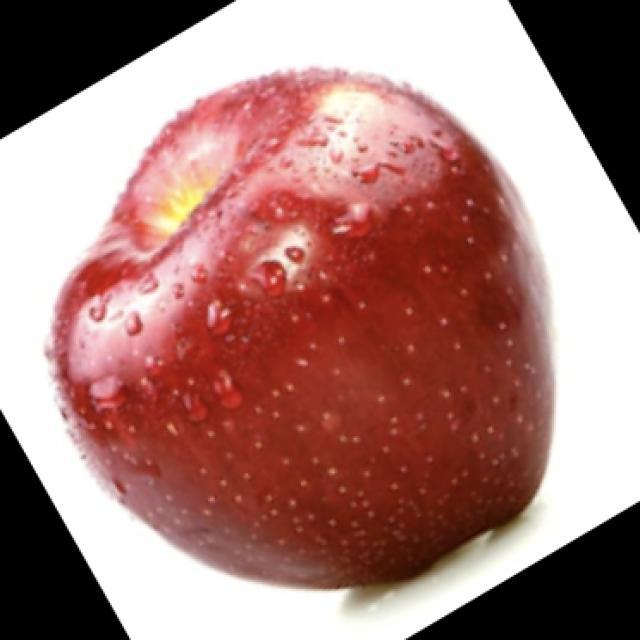Fresh Apple: (44, 68, 562, 592)
